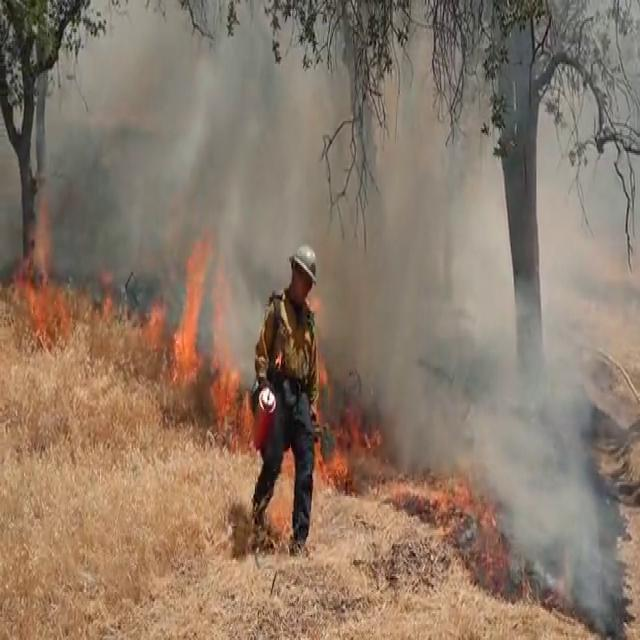fire: (24, 262, 62, 328), (171, 323, 203, 390), (210, 344, 240, 412), (184, 240, 208, 312), (327, 431, 355, 484)
smoke: (541, 478, 599, 592), (498, 440, 550, 540), (512, 371, 552, 446)
